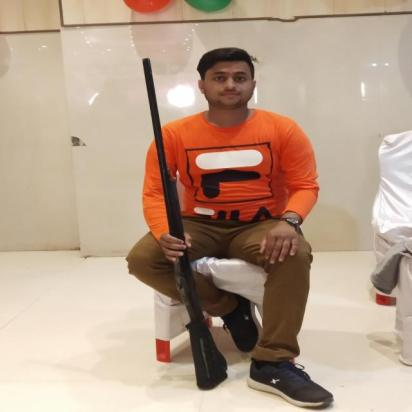Gun: (139, 55, 232, 394)
